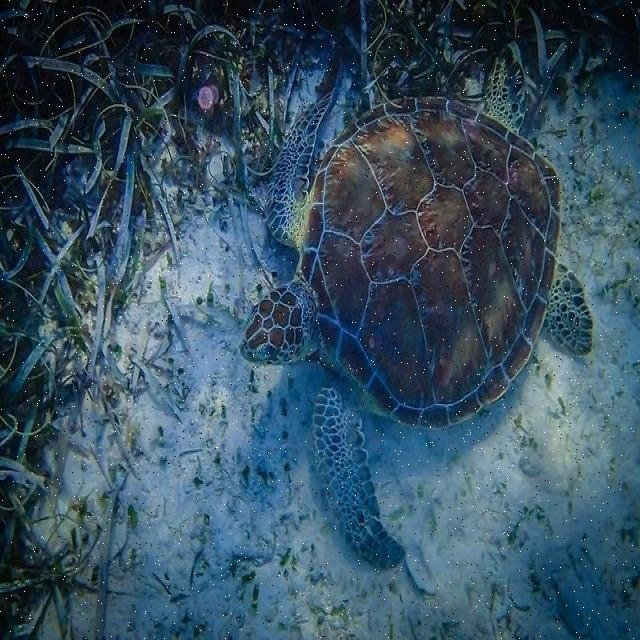fish: (240, 41, 589, 570)
